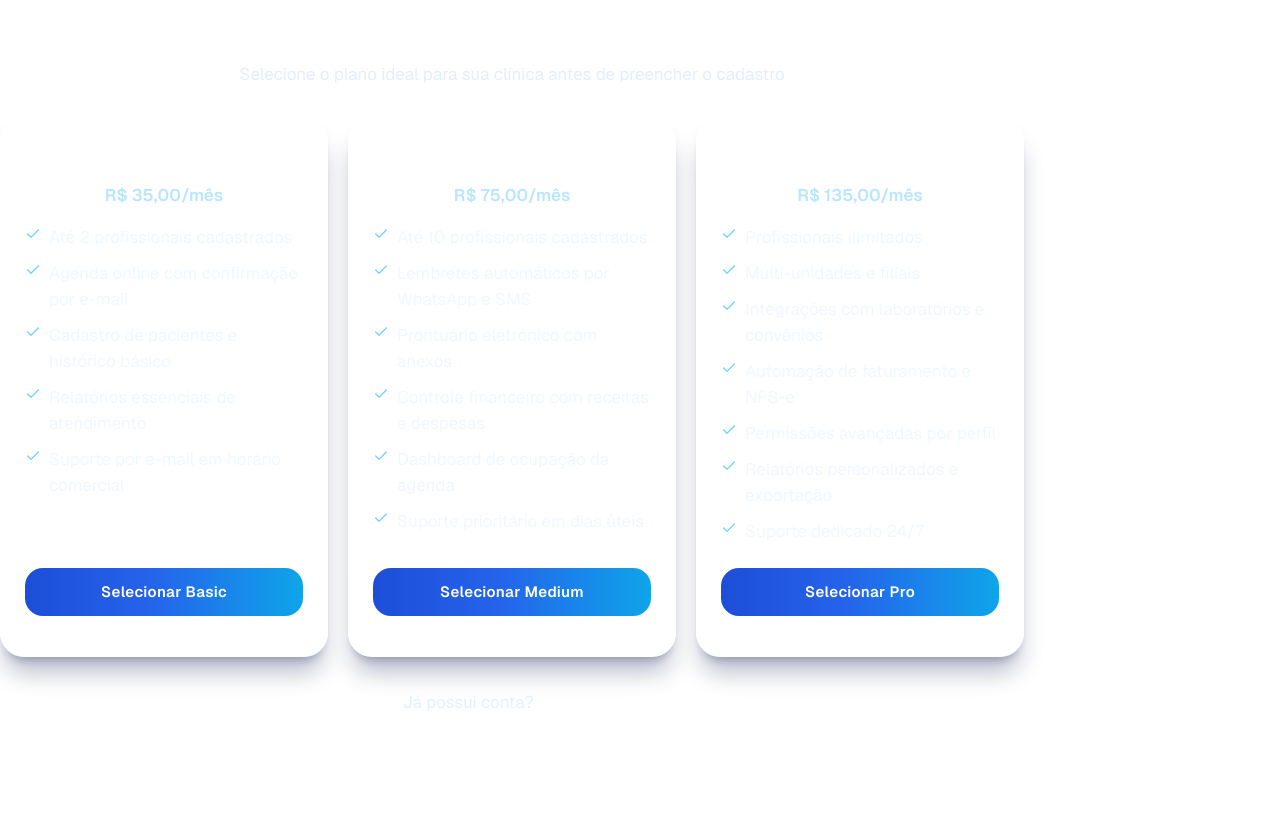
Test: CompanyRegisterForm › renderiza campos do cadastro após selecionar plano
Click the button "Selecionar Basic" at (164, 592), box [25,568,303,616]
(page scrolled)
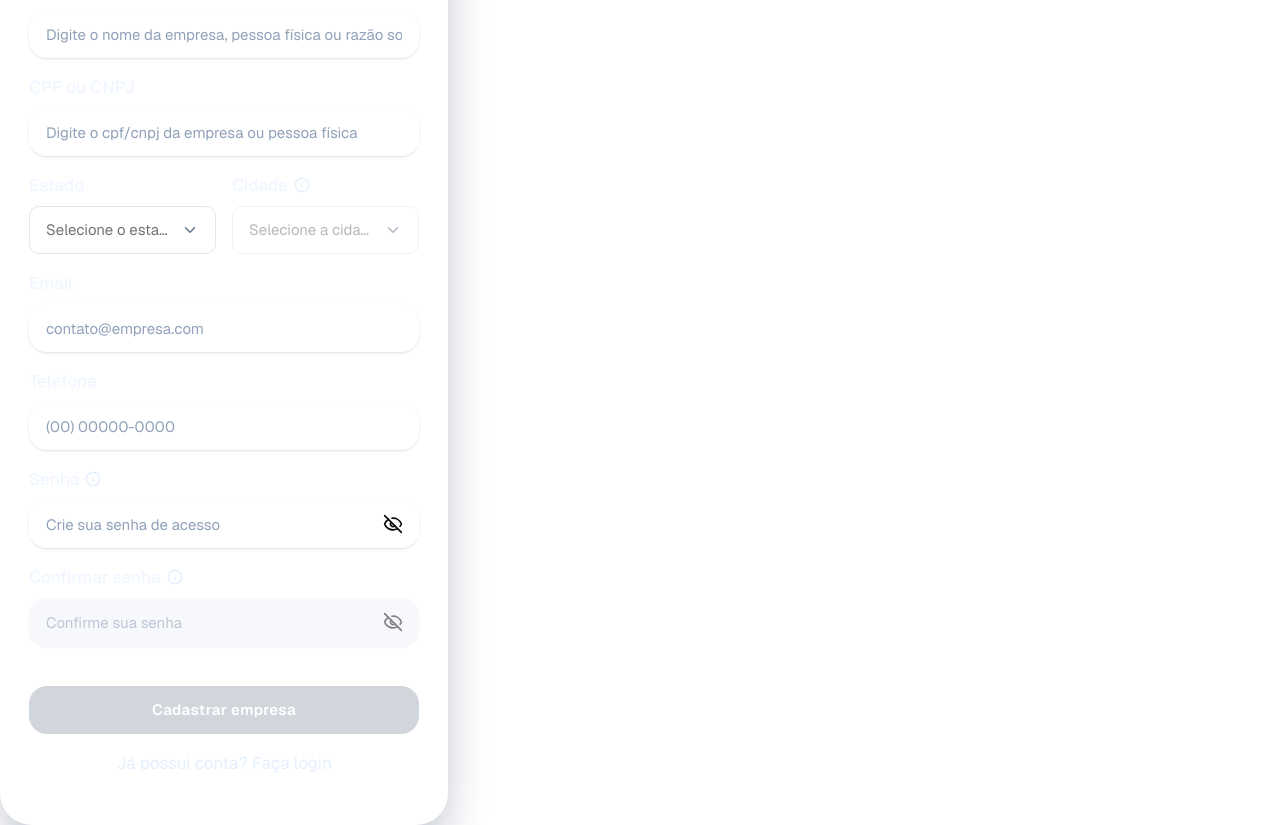
expect the field labelled "Nome da empresa" is shown: met, box [29,10,419,58]
expect the field labelled "CPF ou CNPJ" is shown: met, box [29,108,419,156]
expect the field labelled "Email" is shown: met, box [29,304,419,352]
